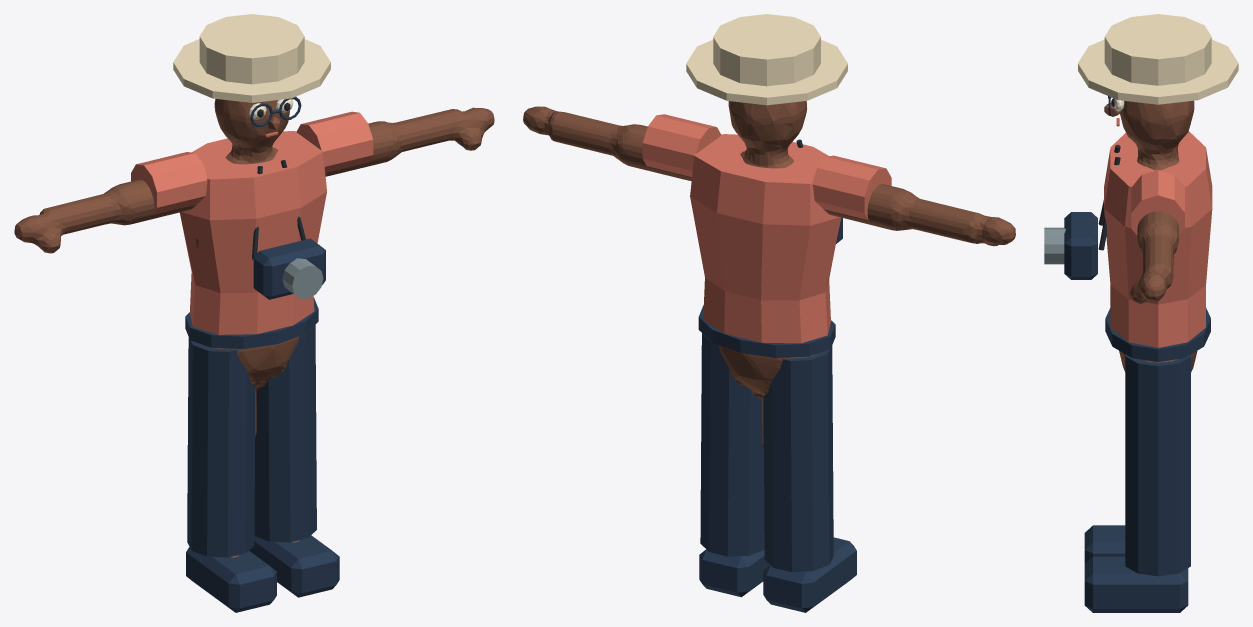
The model's file is Disguise_Tourist.fbx.
The picture shows the model from 3 angles, left to right: view 1: azimuth 30°, elevation 25°; view 2: azimuth 150°, elevation 25°; view 3: azimuth 270°, elevation 25°; orthographic projection. The views are drawn at different scales.
Parts seen in each view (by area): view 1: Disguise_Tourist_Wearer_Shirt.002, Disguise_Tourist_Wearer_Civilian_03_Base_BaseMale_TPose_Body, Disguise_Tourist_Wearer_PantsLeg.004, Disguise_Tourist_Wearer_PantsLeg.005, SunHat, HatBrim, Disguise_Tourist_Wearer_Shoe.004, Disguise_Tourist_Wearer_Shoe.005, Disguise_Tourist_Wearer_Sleeve.004, Disguise_Tourist_Wearer_Sleeve.005, Camera.002, Disguise_Tourist_Wearer_Belt.002 (+1 smaller); view 2: Disguise_Tourist_Wearer_Shirt.002, Disguise_Tourist_Wearer_Civilian_03_Base_BaseMale_TPose_Body, Disguise_Tourist_Wearer_PantsLeg.004, Disguise_Tourist_Wearer_PantsLeg.005, SunHat, HatBrim, Disguise_Tourist_Wearer_Shoe.004, Disguise_Tourist_Wearer_Sleeve.004, Disguise_Tourist_Wearer_Sleeve.005, Disguise_Tourist_Wearer_Shoe.005, Disguise_Tourist_Wearer_Belt.002; view 3: Disguise_Tourist_Wearer_PantsLeg.005, Disguise_Tourist_Wearer_Shirt.002, Disguise_Tourist_Wearer_Civilian_03_Base_BaseMale_TPose_Body, SunHat, Disguise_Tourist_Wearer_Shoe.005, HatBrim, Disguise_Tourist_Wearer_Sleeve.005, Camera.002, Disguise_Tourist_Wearer_Belt.002, Disguise_Tourist_Wearer_Shoe.004, CameraLens.
Part boxes in pixels (left/top/right/bottom): Disguise_Tourist_Wearer_Shirt.002: left=179, top=131, right=326, bottom=334; Disguise_Tourist_Wearer_Civilian_03_Base_BaseMale_TPose_Body: left=14, top=99, right=494, bottom=557; Disguise_Tourist_Wearer_PantsLeg.004: left=187, top=337, right=255, bottom=557; Disguise_Tourist_Wearer_PantsLeg.005: left=254, top=325, right=316, bottom=542; SunHat: left=199, top=14, right=304, bottom=84; HatBrim: left=173, top=39, right=330, bottom=102; Disguise_Tourist_Wearer_Shoe.004: left=186, top=547, right=276, bottom=612; Disguise_Tourist_Wearer_Shoe.005: left=249, top=535, right=339, bottom=597; Disguise_Tourist_Wearer_Sleeve.004: left=131, top=152, right=207, bottom=214; Disguise_Tourist_Wearer_Sleeve.005: left=296, top=111, right=373, bottom=174; Camera.002: left=253, top=238, right=325, bottom=299; Disguise_Tourist_Wearer_Belt.002: left=185, top=297, right=318, bottom=348; Disguise_Tourist_Wearer_Shirt.002: left=690, top=134, right=841, bottom=343; Disguise_Tourist_Wearer_Civilian_03_Base_BaseMale_TPose_Body: left=523, top=101, right=1015, bottom=448; Disguise_Tourist_Wearer_PantsLeg.004: left=763, top=346, right=833, bottom=572; Disguise_Tourist_Wearer_PantsLeg.005: left=700, top=333, right=764, bottom=556; SunHat: left=713, top=14, right=820, bottom=86; HatBrim: left=686, top=39, right=847, bottom=105; Disguise_Tourist_Wearer_Shoe.004: left=763, top=537, right=856, bottom=612; Disguise_Tourist_Wearer_Sleeve.004: left=812, top=155, right=891, bottom=219; Disguise_Tourist_Wearer_Sleeve.005: left=642, top=114, right=721, bottom=177; Disguise_Tourist_Wearer_Shoe.005: left=699, top=549, right=769, bottom=597; Disguise_Tourist_Wearer_Belt.002: left=698, top=305, right=835, bottom=357; Disguise_Tourist_Wearer_PantsLeg.005: left=1125, top=354, right=1190, bottom=576; Disguise_Tourist_Wearer_Shirt.002: left=1104, top=131, right=1212, bottom=347; Disguise_Tourist_Wearer_Civilian_03_Base_BaseMale_TPose_Body: left=1119, top=100, right=1197, bottom=372; SunHat: left=1104, top=14, right=1211, bottom=85; Disguise_Tourist_Wearer_Shoe.005: left=1084, top=556, right=1188, bottom=612; HatBrim: left=1078, top=39, right=1238, bottom=104; Disguise_Tourist_Wearer_Sleeve.005: left=1131, top=170, right=1184, bottom=235; Camera.002: left=1064, top=212, right=1097, bottom=279; Disguise_Tourist_Wearer_Belt.002: left=1105, top=308, right=1210, bottom=361; Disguise_Tourist_Wearer_Shoe.004: left=1084, top=525, right=1125, bottom=563; CameraLens: left=1044, top=227, right=1065, bottom=264.
Bounding box in the file's own units: 1.68 × 1.83 × 0.58.
